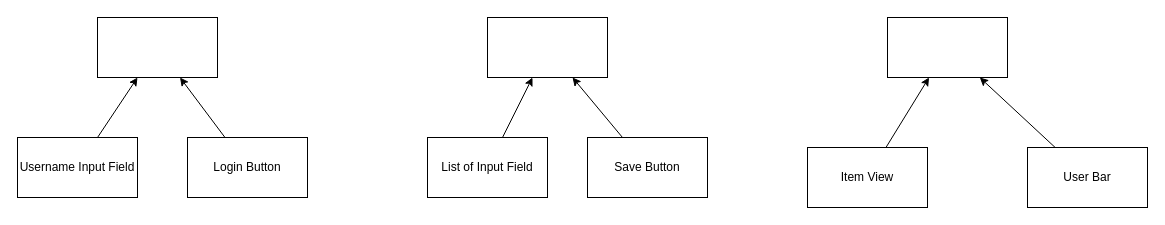
The diagram is 1165 pixels wide and 225 high, and some of its shapes have lost their labels. Each missing label, with the box of its shape:
Item Input Field: (486, 16, 608, 78)
Item List View: (886, 16, 1008, 78)
Login Widget: (96, 16, 218, 78)
